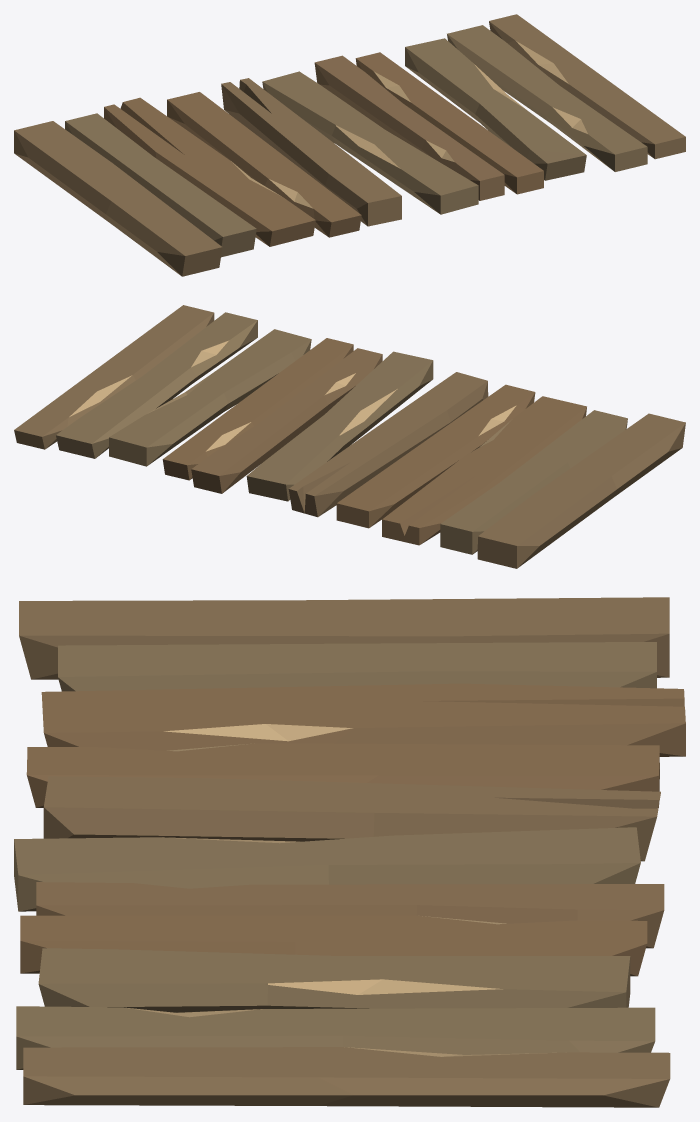
File: rpgpp_ag_wall_platform_01b_4m.fbx
3 renders of one model, top to bottom at view 1: azimuth 30°, elevation 25°; view 2: azimuth 150°, elevation 25°; view 3: azimuth 270°, elevation 25°, orthographic. The views are drawn at different scales.
Visible parts, largest first — view 1: rpgpp_ag_wall_platform_01b_4m; view 2: rpgpp_ag_wall_platform_01b_4m; view 3: rpgpp_ag_wall_platform_01b_4m.
Boxes of the visible parts, x1,y1,x2,y2 form: rpgpp_ag_wall_platform_01b_4m: [14, 14, 685, 276]; rpgpp_ag_wall_platform_01b_4m: [14, 305, 685, 568]; rpgpp_ag_wall_platform_01b_4m: [14, 597, 685, 1107].
Size of the model in its own units: 4 by 0.1884 by 2.38.
